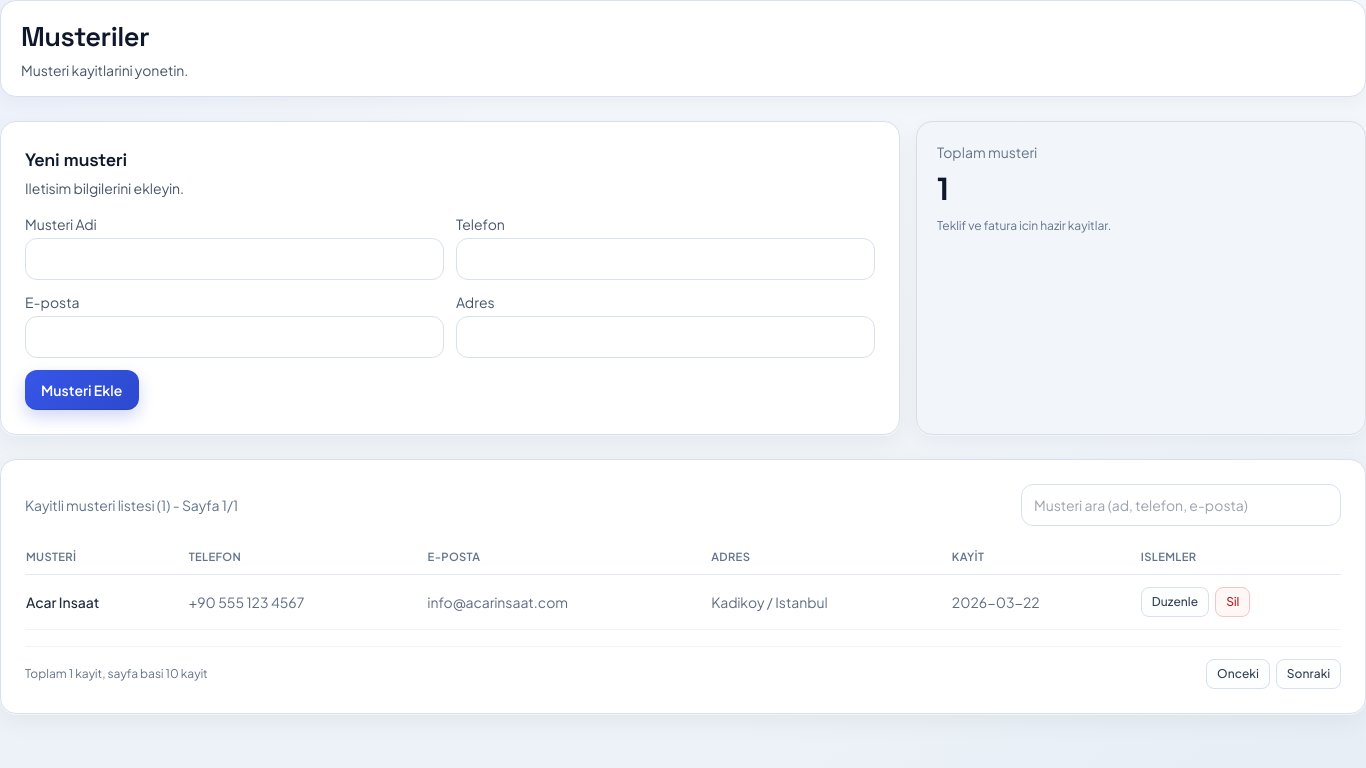
Test: CustomersPage › shows validation error for invalid phone and skips API submit
This screenshot has width=1366, height=768.
Check: the text "Acar Insaat" is shown, box [25,575,188,630]
Type "Telefon Test" into the field below "Musteri Adi" at (234, 259), box [25,238,444,280]
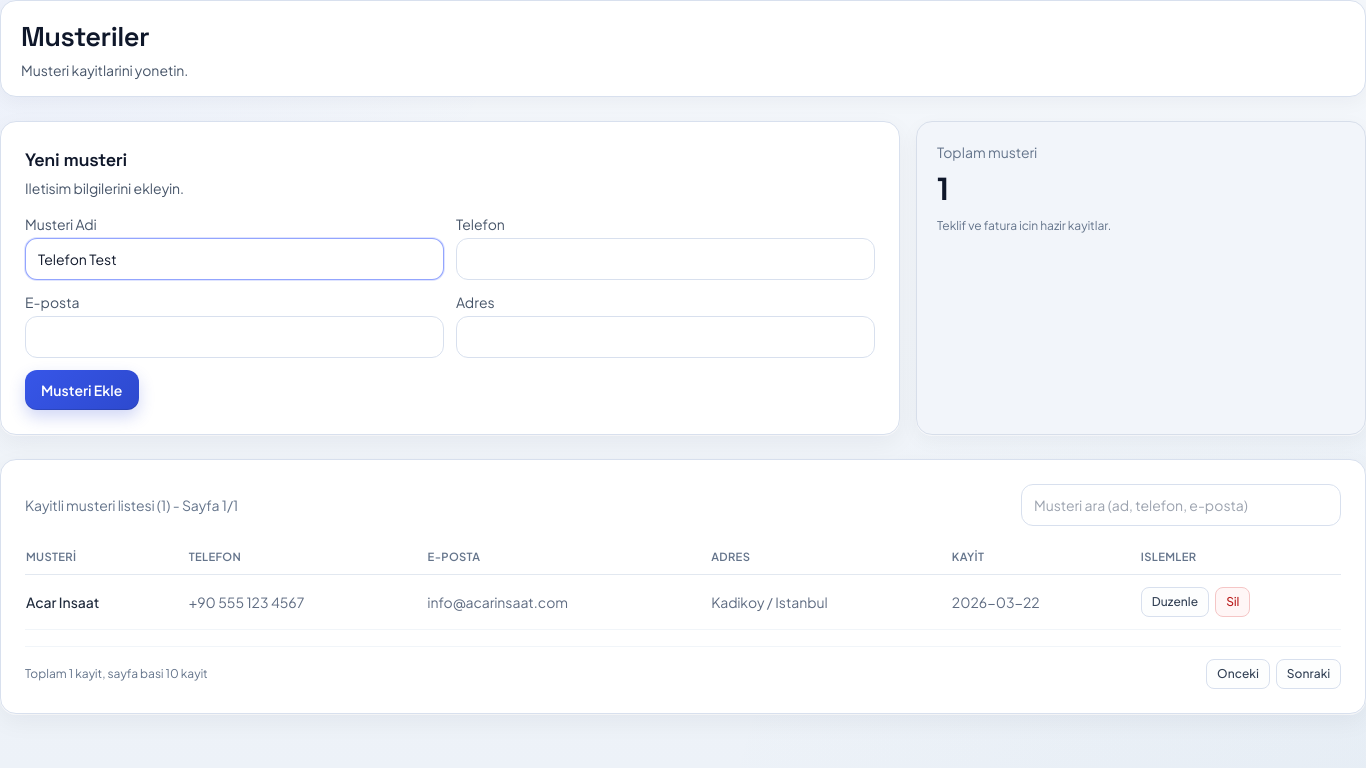
Type "abc-123" into the 2nd field at (666, 259), box [456,238,875,280]
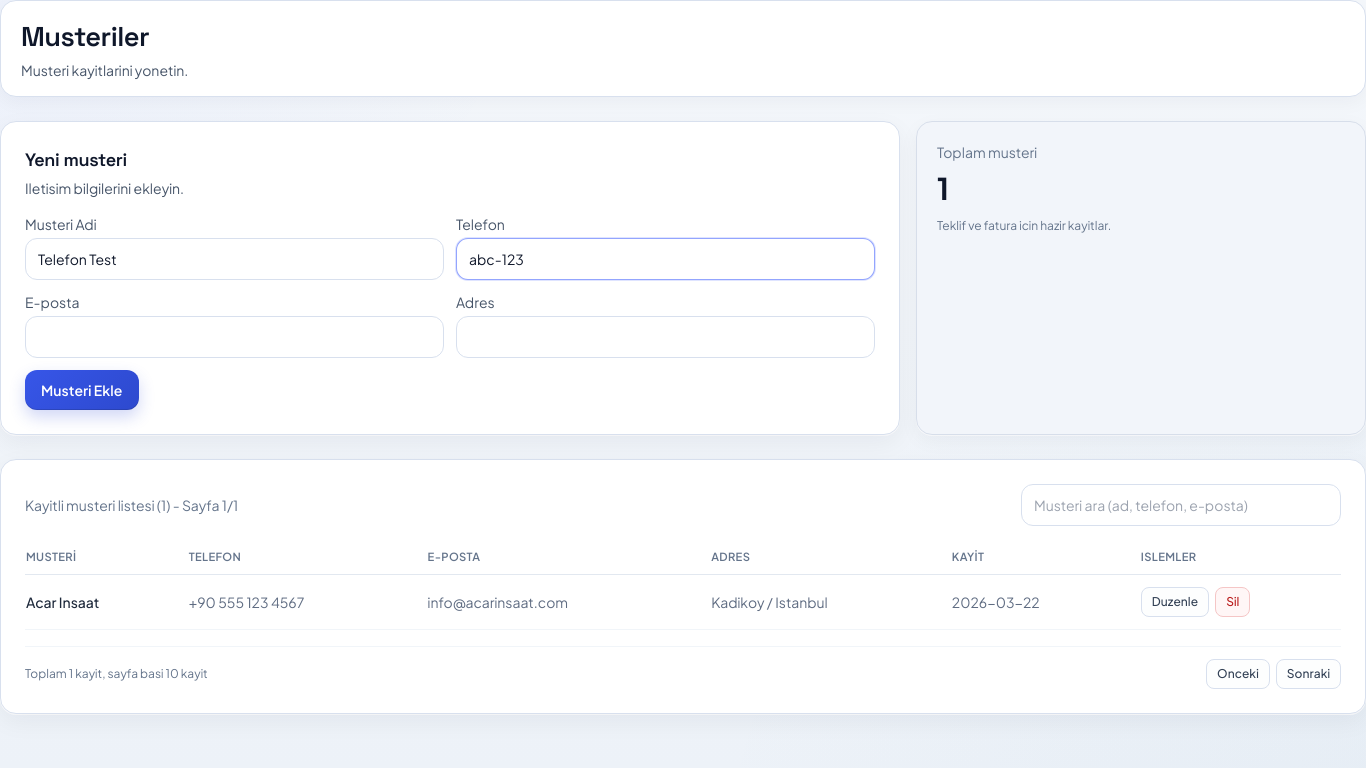
Click the button "Musteri Ekle" at (82, 390), box [25,370,138,410]
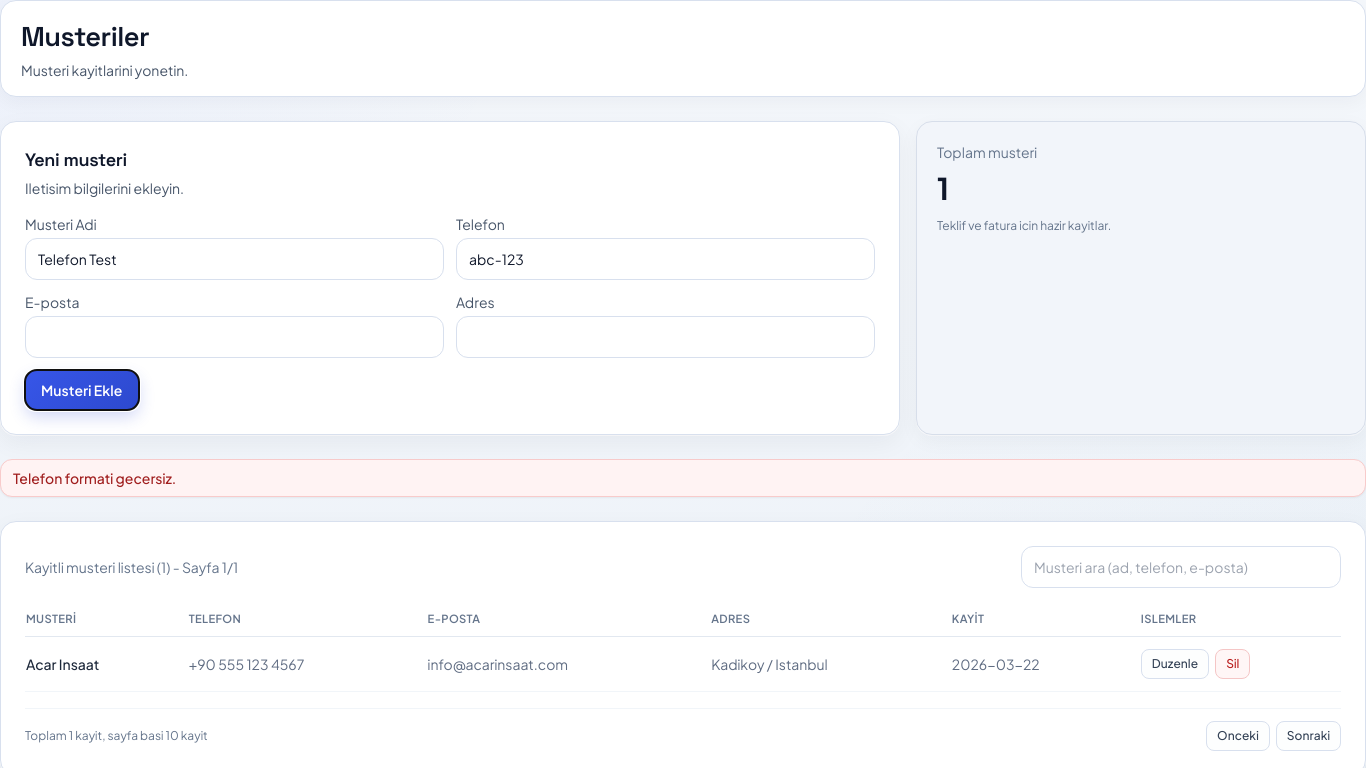
Check: the text "Telefon formati gecersiz." is shown, box [0,459,1365,497]
